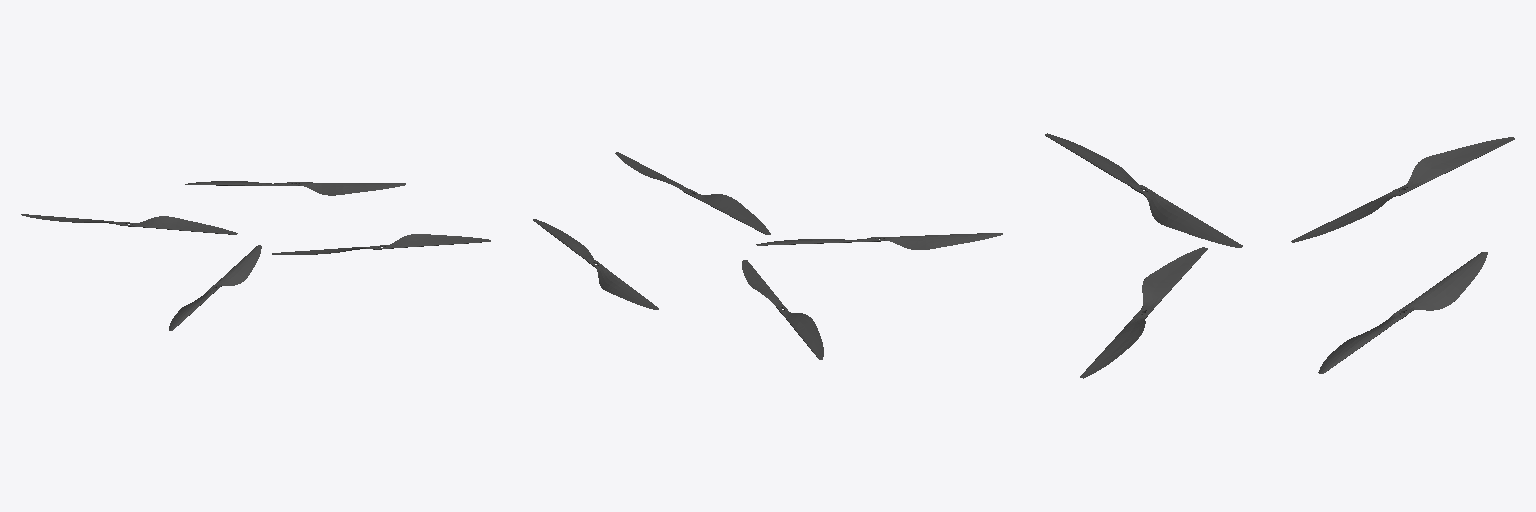
robot.urdf — Tarot 650 Assembly_urdf_wts.SLDASM:
<?xml version="1.0" encoding="utf-8"?>
<!-- This URDF was automatically created by SolidWorks to URDF Exporter! Originally created by [author] ([email redacted]) 
     Commit Version: 1.6.0-4-g7f85cfe  Build Version: 1.6.7995.38578
     For more information, please see http://wiki.ros.org/sw_urdf_exporter -->
<robot
  name="Tarot 650 Assembly_urdf_wts.SLDASM">

  <properties arm="0.225" kf="2.98e-6" km="1.04e-7" thrust2weight="4.17" max_speed_kmh="200" gnd_eff_coeff="11.36859" prop_radius="12.7e-2" drag_coeff_xy="9.1785e-7" drag_coeff_z="10.311e-7" dw_coeff_1="2267.18" dw_coeff_2=".16" dw_coeff_3="-.11" />

  <link
    name="base_link">
    <inertial>
      <origin
        xyz="-6.7608E-05 -8.7166E-06 -0.042337"
        rpy="0 0 0" />
      <mass
        value="2.267" />
      <inertia
        ixx="0.0011923"
        ixy="-6.0423E-10"
        ixz="-8.583E-10"
        iyy="0.0018652"
        iyz="-1.0208E-09"
        izz="0.0028975" />
    </inertial>
    <visual>
      <origin
        xyz="0 0 0"
        rpy="0 0 0" />
      <geometry>
        <mesh
          filename="package://Tarot 650 Assembly_urdf_wts.SLDASM/meshes/base_link.STL" />
      </geometry>
      <material
        name="">
        <color
          rgba="1 1 1 1" />
      </material>
    </visual>
    <collision>
      <origin
        xyz="0 0 0"
        rpy="0 0 0" />
      <geometry>
        <mesh
          filename="package://Tarot 650 Assembly_urdf_wts.SLDASM/meshes/base_link.STL" />
      </geometry>
    </collision>
  </link>
  <link
    name="prop0_link">
    <inertial>
      <origin
        xyz="-1.3702E-07 -5.5005E-08 0.0022876"
        rpy="0 0 0" />
      <mass
        value="0.01994" />
      <inertia
        ixx="2.0199E-05"
        ixy="5.6953E-05"
        ixz="4.3184E-11"
        iyy="0.00017127"
        iyz="3.3642E-12"
        izz="0.00019128" />
    </inertial>
    <visual>
      <origin
        xyz="0 0 0"
        rpy="0 0 0" />
      <geometry>
        <mesh
          filename="package://Tarot 650 Assembly_urdf_wts.SLDASM/meshes/Motor1.STL" />
      </geometry>
      <material
        name="">
        <color
          rgba="0.33333 0.33333 0.33333 1" />
      </material>
    </visual>
    <collision>
      <origin
        xyz="0 0 0"
        rpy="0 0 0" />
      <geometry>
        <mesh
          filename="package://Tarot 650 Assembly_urdf_wts.SLDASM/meshes/Motor1.STL" />
      </geometry>
    </collision>
  </link>
  <joint
    name="Motor1"
    type="continuous">
    <origin
      xyz="0.16752 -0.15021 -0.028016"
      rpy="0 0 0" />
    <parent
      link="base_link" />
    <child
      link="prop0_link" />
    <axis
      xyz="0 0 -1" />
  </joint>
  <link
    name="prop2_link">
    <inertial>
      <origin
        xyz="4.816E-08 3.8379E-08 -0.00036519"
        rpy="0 0 0" />
      <mass
        value="0.01994" />
      <inertia
        ixx="5.8024E-05"
        ixy="8.6758E-05"
        ixz="-1.392E-11"
        iyy="0.00013344"
        iyz="2.4116E-11"
        izz="0.00019128" />
    </inertial>
    <visual>
      <origin
        xyz="0 0 0"
        rpy="0 0 0" />
      <geometry>
        <mesh
          filename="package://Tarot 650 Assembly_urdf_wts.SLDASM/meshes/Motor3.STL" />
      </geometry>
      <material
        name="">
        <color
          rgba="0.33333 0.33333 0.33333 1" />
      </material>
    </visual>
    <collision>
      <origin
        xyz="0 0 0"
        rpy="0 0 0" />
      <geometry>
        <mesh
          filename="package://Tarot 650 Assembly_urdf_wts.SLDASM/meshes/Motor3.STL" />
      </geometry>
    </collision>
  </link>
  <joint
    name="Motor3"
    type="continuous">
    <origin
      xyz="0.16752 0.15021 -0.028016"
      rpy="0 0 0" />
    <parent
      link="base_link" />
    <child
      link="prop2_link" />
    <axis
      xyz="0 0 -1" />
  </joint>
  <link
    name="prop1_link">
    <inertial>
      <origin
        xyz="-1.4261E-08 -1.3868E-07 0.0031853"
        rpy="0 0 0" />
      <mass
        value="0.01994" />
      <inertia
        ixx="7.4718E-05"
        ixy="9.2235E-05"
        ixz="4.483E-11"
        iyy="0.00011675"
        iyz="-1.4699E-11"
        izz="0.00019128" />
    </inertial>
    <visual>
      <origin
        xyz="0 0 0"
        rpy="0 0 0" />
      <geometry>
        <mesh
          filename="package://Tarot 650 Assembly_urdf_wts.SLDASM/meshes/Motor2.STL" />
      </geometry>
      <material
        name="">
        <color
          rgba="0.33333 0.33333 0.33333 1" />
      </material>
    </visual>
    <collision>
      <origin
        xyz="0 0 0"
        rpy="0 0 0" />
      <geometry>
        <mesh
          filename="package://Tarot 650 Assembly_urdf_wts.SLDASM/meshes/Motor2.STL" />
      </geometry>
    </collision>
  </link>
  <joint
    name="Motor2"
    type="continuous">
    <origin
      xyz="-0.16752 0.15021 -0.028016"
      rpy="0 0 0" />
    <parent
      link="base_link" />
    <child
      link="prop1_link" />
    <axis
      xyz="0 0 -1" />
  </joint>
  <link
    name="prop3_link">
    <inertial>
      <origin
        xyz="1.4549E-07 -1.9932E-08 -0.00043991"
        rpy="0 0 0" />
      <mass
        value="0.01994" />
      <inertia
        ixx="5.6385E-05"
        ixy="-8.6028E-05"
        ixz="4.2685E-11"
        iyy="0.00013508"
        iyz="7.3299E-12"
        izz="0.00019128" />
    </inertial>
    <visual>
      <origin
        xyz="0 0 0"
        rpy="0 0 0" />
      <geometry>
        <mesh
          filename="package://Tarot 650 Assembly_urdf_wts.SLDASM/meshes/Motor4.STL" />
      </geometry>
      <material
        name="">
        <color
          rgba="0.33333 0.33333 0.33333 1" />
      </material>
    </visual>
    <collision>
      <origin
        xyz="0 0 0"
        rpy="0 0 0" />
      <geometry>
        <mesh
          filename="package://Tarot 650 Assembly_urdf_wts.SLDASM/meshes/Motor4.STL" />
      </geometry>
    </collision>
  </link>
  <joint
    name="Motor4"
    type="continuous">
    <origin
      xyz="-0.16752 -0.15021 -0.028016"
      rpy="0 0 0" />
    <parent
      link="base_link" />
    <child
      link="prop3_link" />
    <axis
      xyz="0 0 -1" />
  </joint>
</robot>

--- What the picture shows (computed from the rendered views, not written in the file) ---
Views: 3 orthographic renders of the robot side by side, from view 1: azimuth 30°, elevation 25°; view 2: azimuth 150°, elevation 25°; view 3: azimuth 270°, elevation 25°.
Robot: Tarot 650 Assembly_urdf_wts.SLDASM — 5 links, 4 joints (4 continuous); root link base_link; default pose: every joint at zero.
Visible links, largest first — view 1: prop1_link, prop2_link, prop0_link, prop3_link; view 2: prop3_link, prop0_link, prop2_link, prop1_link; view 3: prop1_link, prop2_link, prop3_link, prop0_link.
Boxes of the visible links, left/top/right/bottom form: prop1_link: left=21, top=214, right=237, bottom=234; prop2_link: left=185, top=181, right=405, bottom=195; prop0_link: left=272, top=234, right=490, bottom=254; prop3_link: left=169, top=245, right=261, bottom=330; prop3_link: left=756, top=233, right=1002, bottom=249; prop0_link: left=615, top=152, right=770, bottom=234; prop2_link: left=533, top=219, right=658, bottom=309; prop1_link: left=742, top=260, right=823, bottom=359; prop1_link: left=1291, top=137, right=1514, bottom=242; prop2_link: left=1318, top=252, right=1487, bottom=373; prop3_link: left=1045, top=133, right=1242, bottom=247; prop0_link: left=1080, top=247, right=1207, bottom=378.
Bounding box of the posed robot: 0.6722 × 0.546 × 0.0221 m (x, y, z).
4 mesh visuals loaded from 5 distinct referenced files (4 binary STL); not drawn: 1 (reference not matched to a file when rendering).